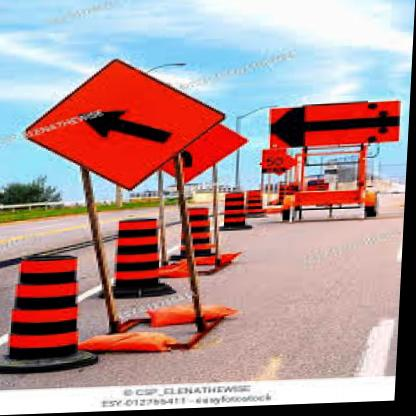obstacle: (9, 251, 95, 365), (103, 215, 176, 288)
